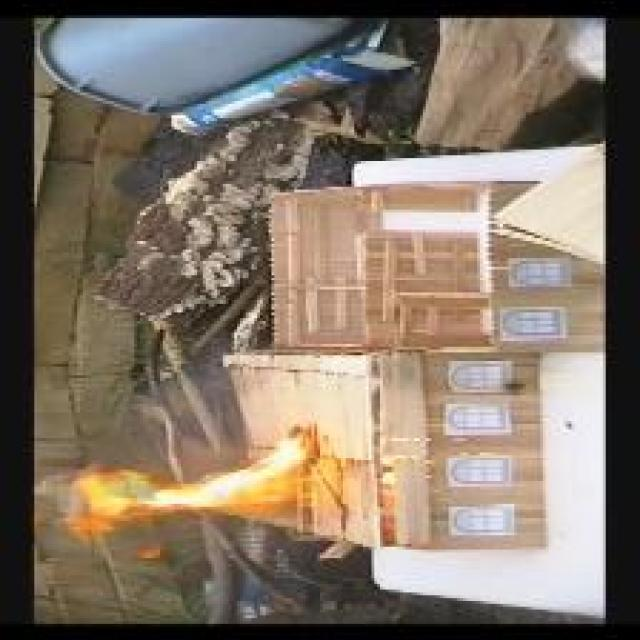Fire: (65, 428, 332, 543)
